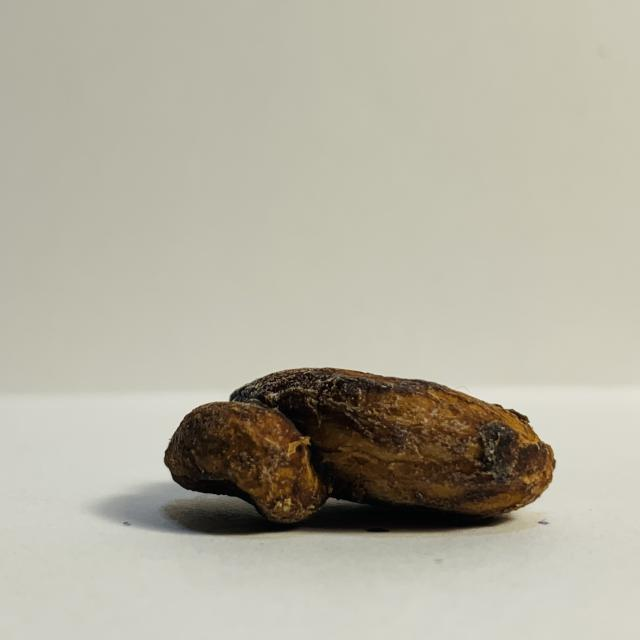Agglomerated_cocoabeans: (58, 337, 616, 571)
